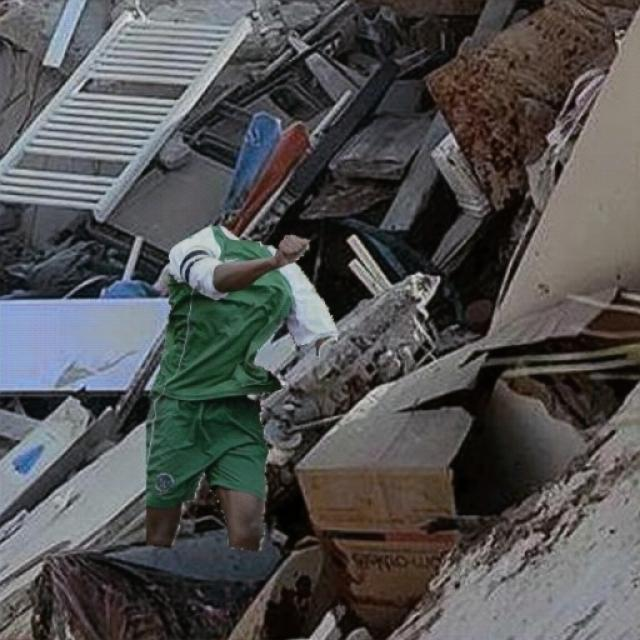Person in Rubble: (146, 226, 336, 550)
